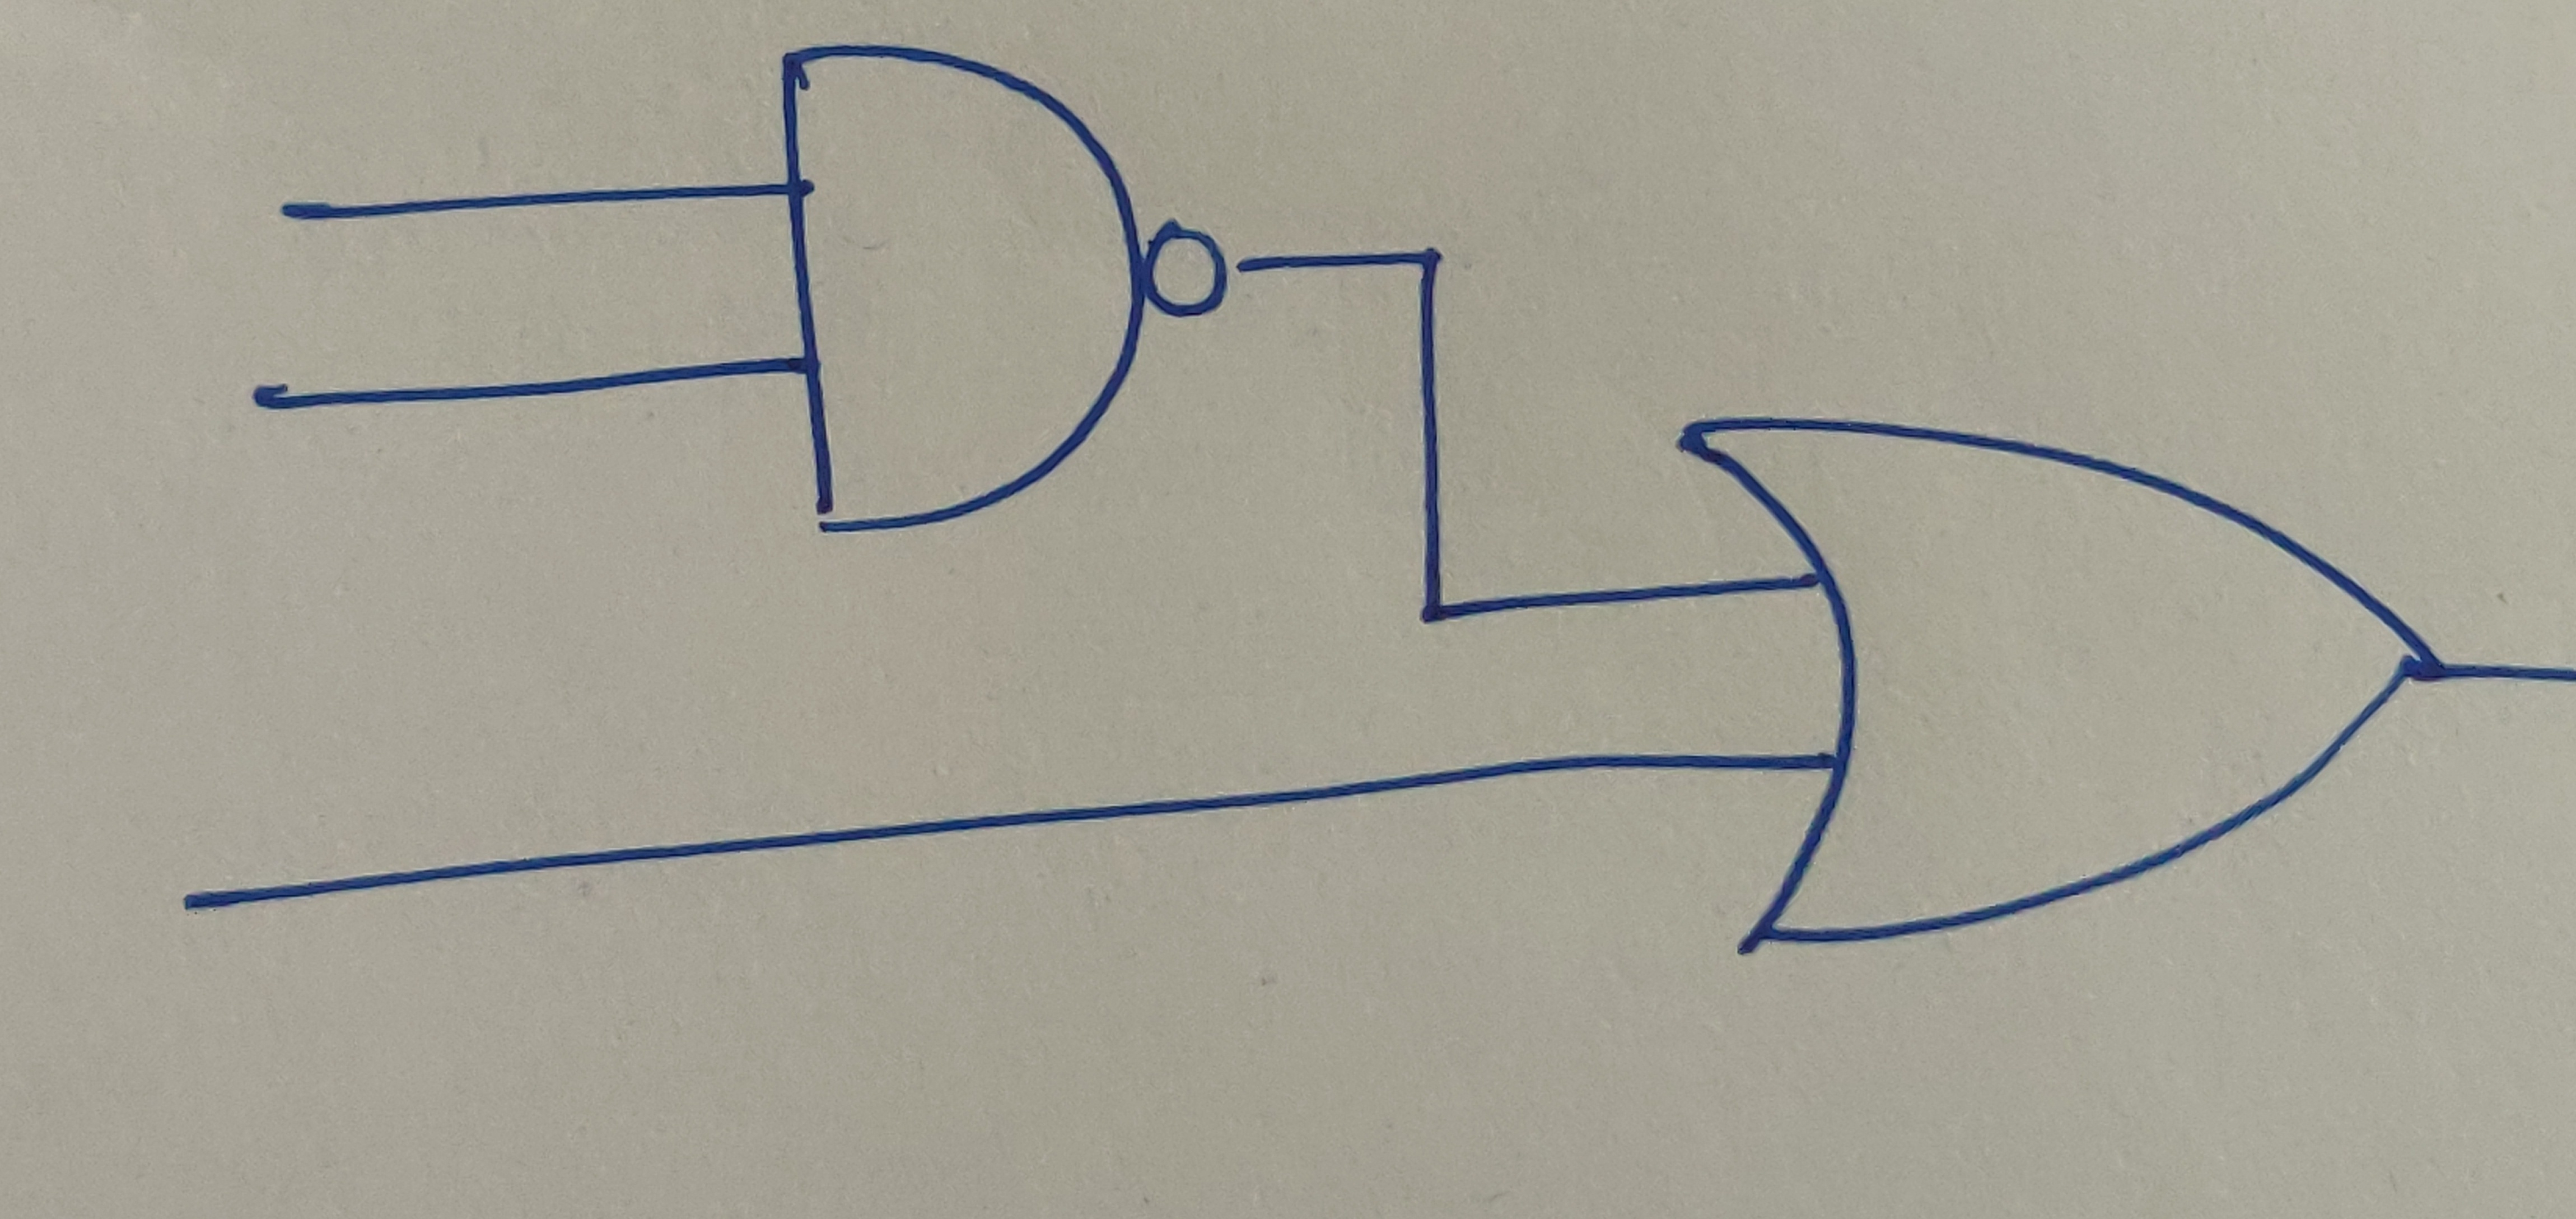and: (774, 39, 1145, 537)
not: (1143, 217, 1235, 330)
or: (1674, 412, 2431, 951)
